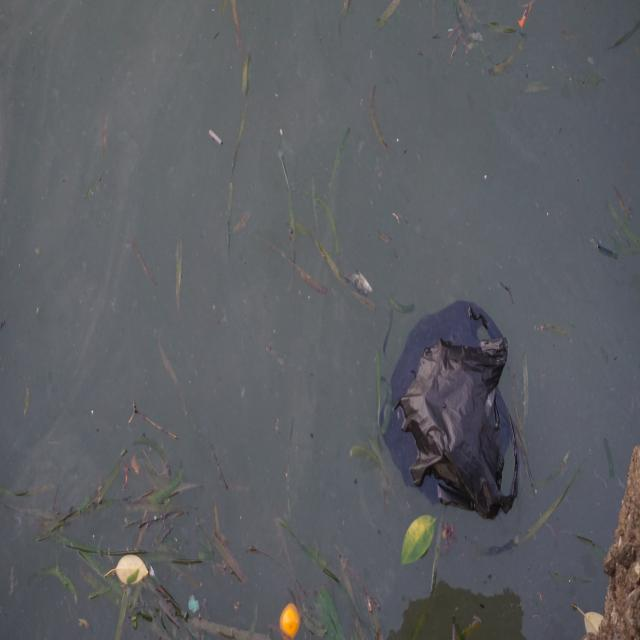Kantong Plastik: (383, 293, 522, 521)
